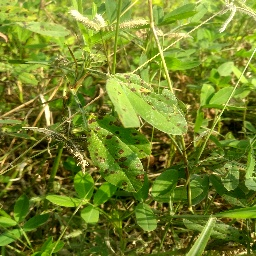GroundNut_Leaf: (90, 126, 152, 191), (123, 80, 189, 141), (14, 20, 71, 37), (153, 166, 181, 198), (43, 191, 88, 210), (208, 85, 236, 107), (12, 192, 31, 218), (1, 231, 25, 247)
